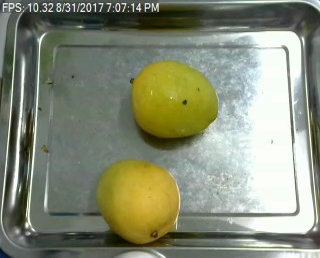Mango: (96, 160, 178, 242), (133, 60, 216, 138)
